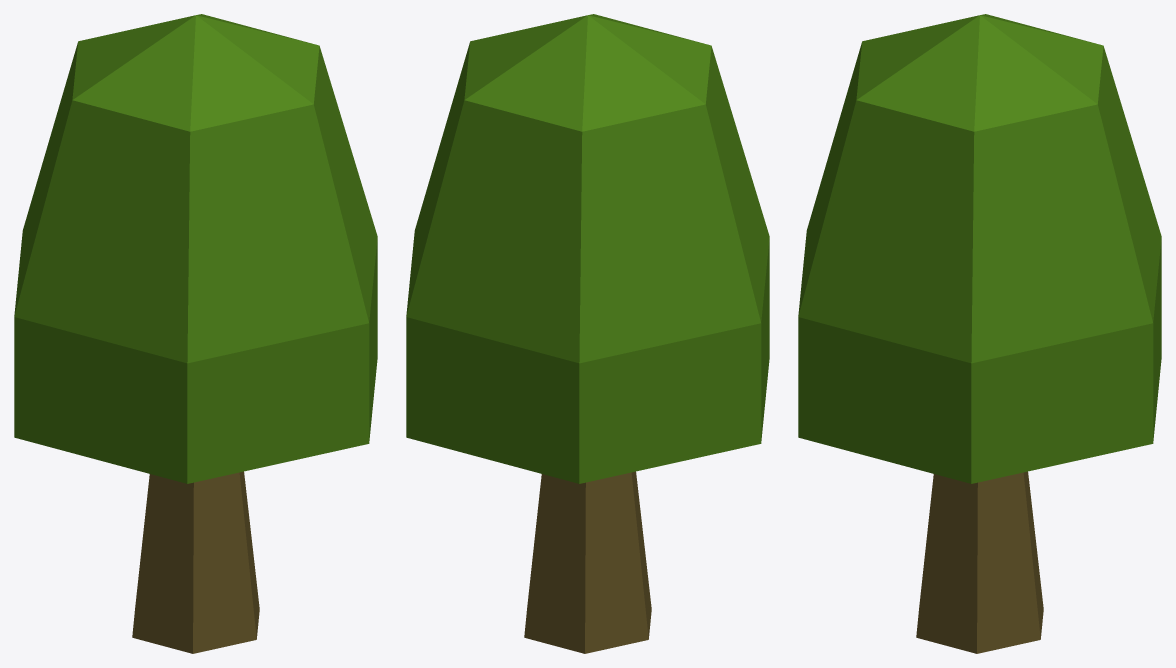
Rendered from Tree_Generic_Spring_03.fbx.
3 views of the same model, side by side, from view 1: azimuth 30°, elevation 25°; view 2: azimuth 150°, elevation 25°; view 3: azimuth 270°, elevation 25° (orthographic).
Parts seen in each view (by area): view 1: Model; view 2: Model; view 3: Model.
Boxes of the visible parts, x1,y1,x2,y2 form: Model: (14,14,377,653); Model: (406,14,769,653); Model: (798,14,1161,653).
Bounding box in the file's own units: 763 × 1249 × 676.
